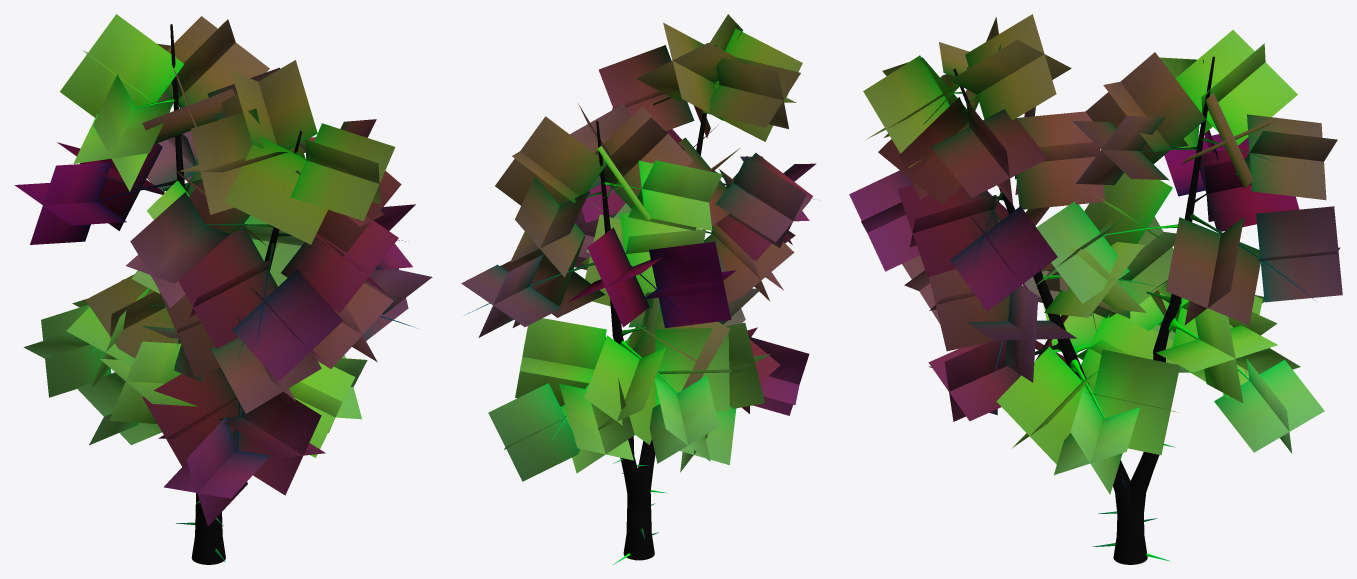
Rendered from URP_P7_Tree_6_LOD_0.fbx.
The picture shows the model from 3 angles, left to right: view 1: azimuth 30°, elevation 25°; view 2: azimuth 150°, elevation 25°; view 3: azimuth 270°, elevation 25°; orthographic projection. The views are drawn at different scales.
Parts seen in each view (by area): view 1: Tree_6_LOD_0; view 2: Tree_6_LOD_0; view 3: Tree_6_LOD_0.
Part boxes in pixels (bbox=[...]): Tree_6_LOD_0: bbox=[14, 14, 432, 564]; Tree_6_LOD_0: bbox=[461, 14, 817, 564]; Tree_6_LOD_0: bbox=[849, 14, 1342, 564].
Size of the model in its own units: 239 by 411 by 345.
